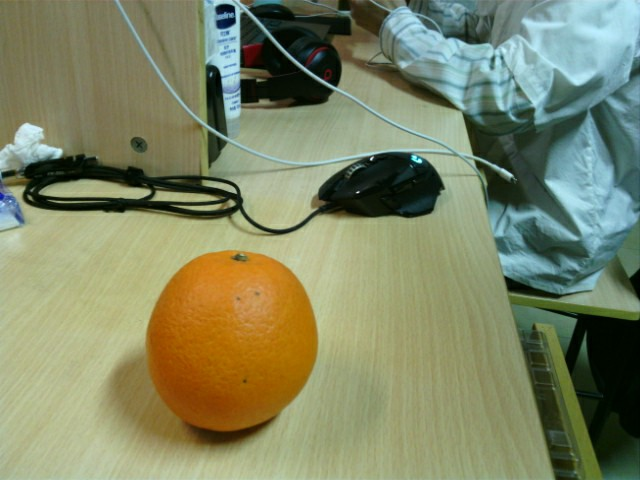normal_orange: (147, 251, 318, 432)
